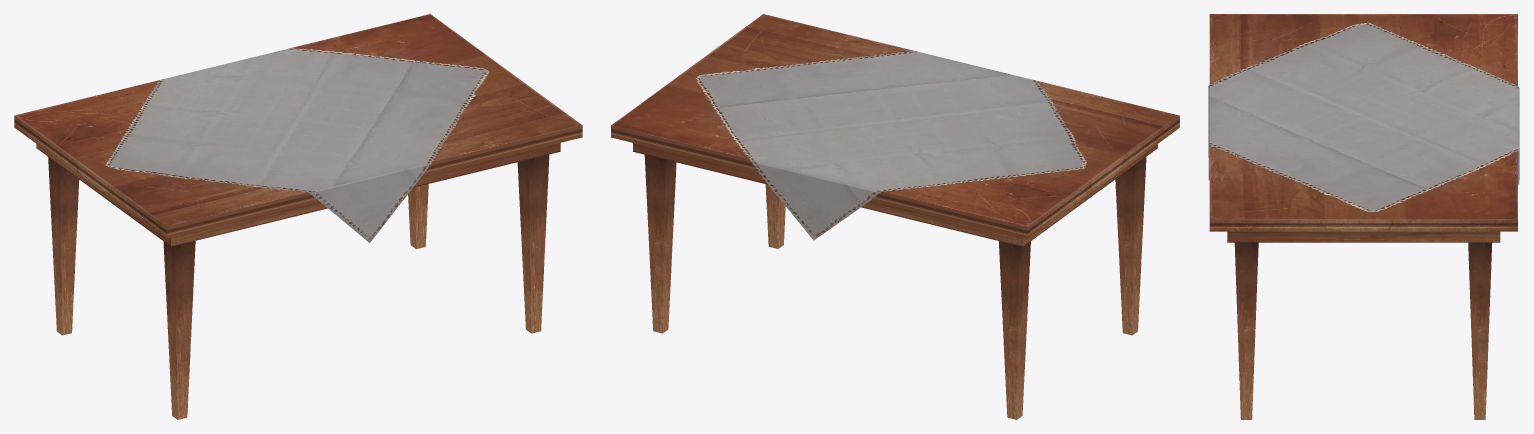
Rendered from table.glb.
3 views of the same model, side by side, from view 1: azimuth 30°, elevation 25°; view 2: azimuth 150°, elevation 25°; view 3: azimuth 270°, elevation 25° (orthographic).
Visible parts, largest first — view 1: table_d_table_d_mat_0; view 2: table_d_table_d_mat_0; view 3: table_d_table_d_mat_0.
Part boxes in pixels (box(x1,y1,x2,y2)): table_d_table_d_mat_0: box(14, 14, 582, 419); table_d_table_d_mat_0: box(611, 14, 1179, 419); table_d_table_d_mat_0: box(1208, 14, 1519, 419).
Bounding box in the file's own units: 1.86 × 0.899 × 1.19.
1 material, 1 textured.
